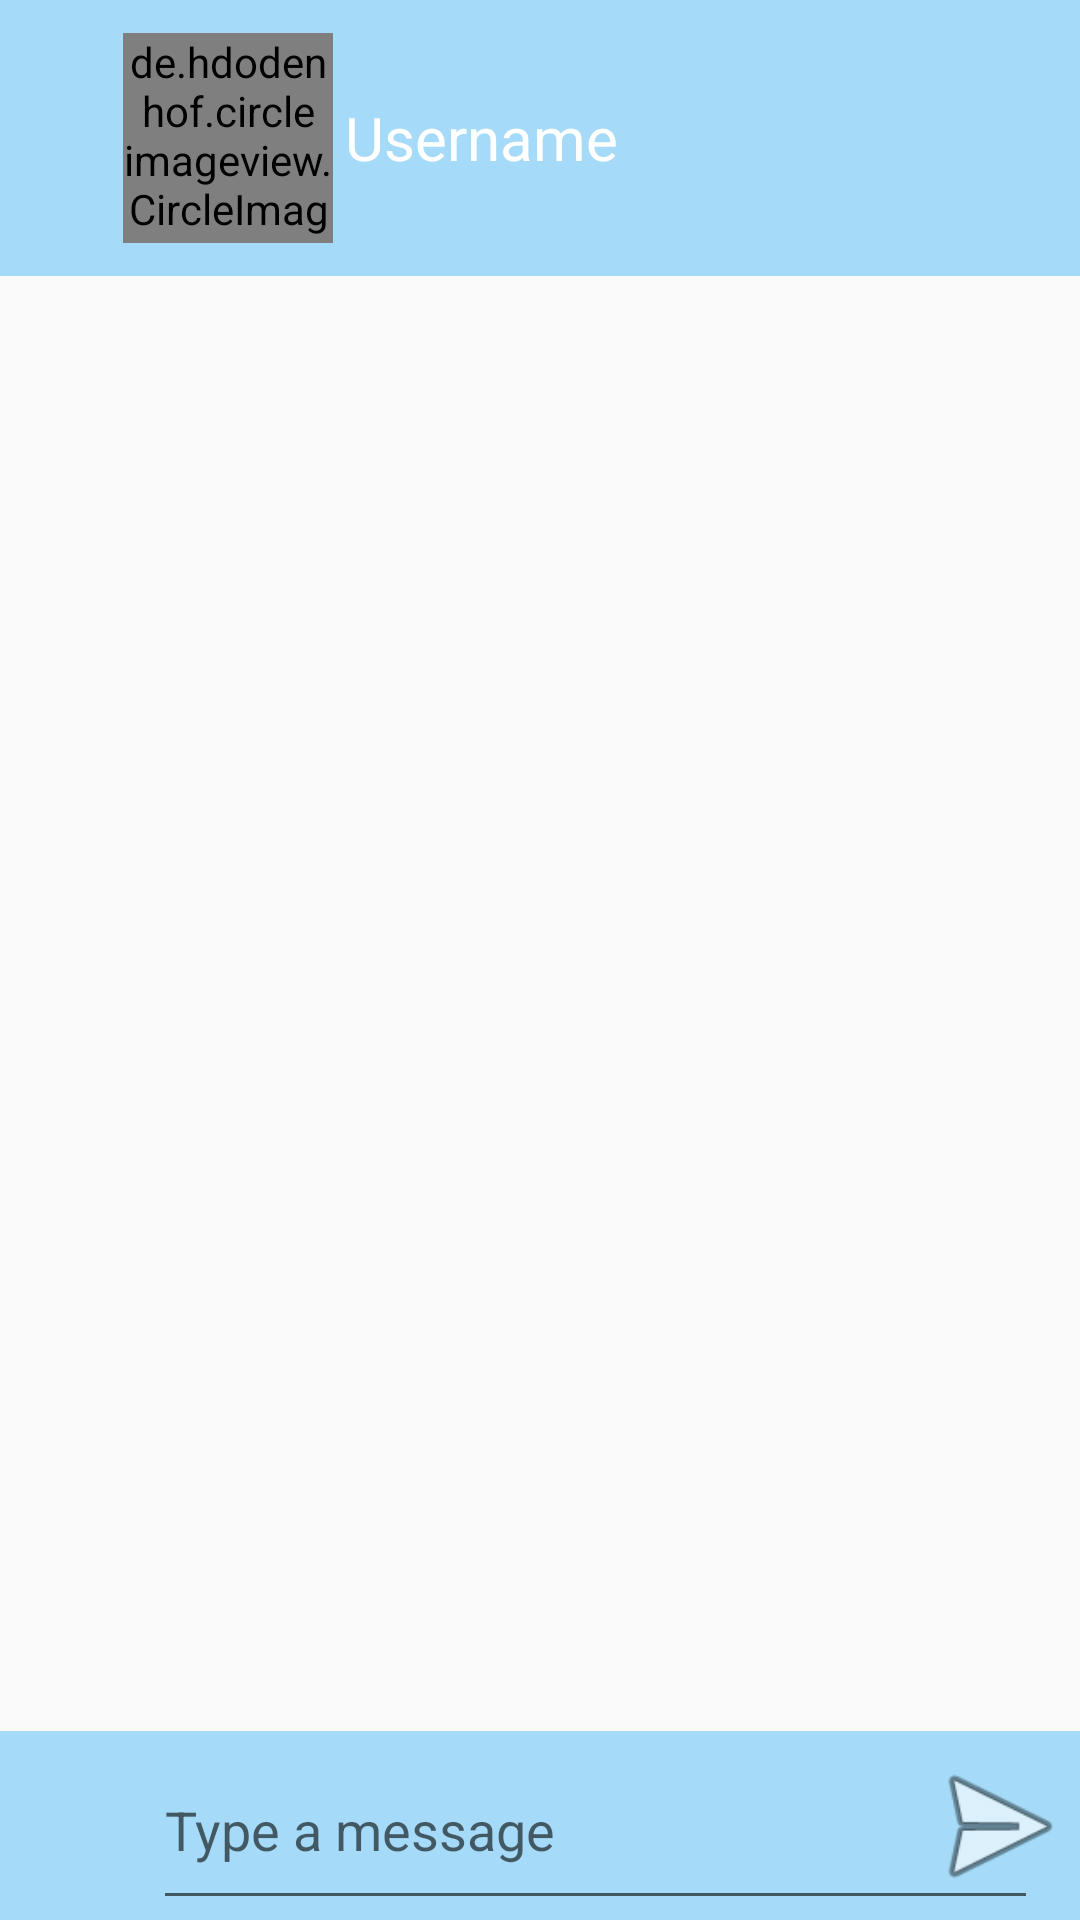

Icon bounding boxes for this 1080×1920 phone screenshot, format (x1, y1, x2, y2):
send: (948, 1775, 1052, 1878)
